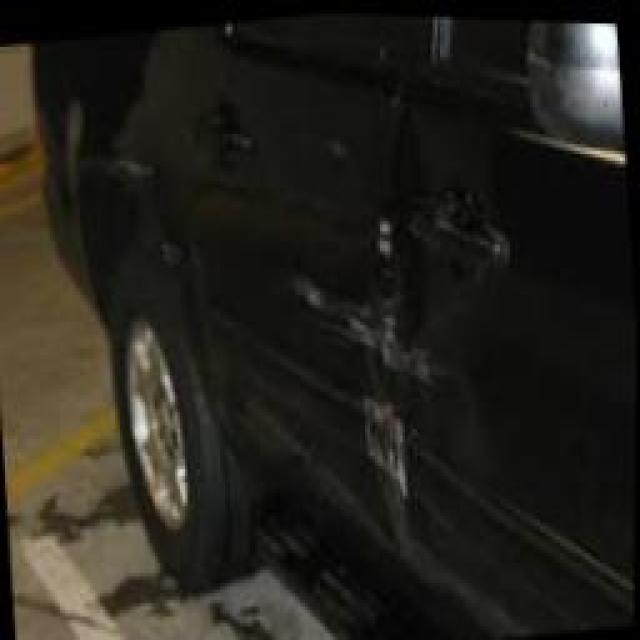Door: (272, 171, 416, 524)
